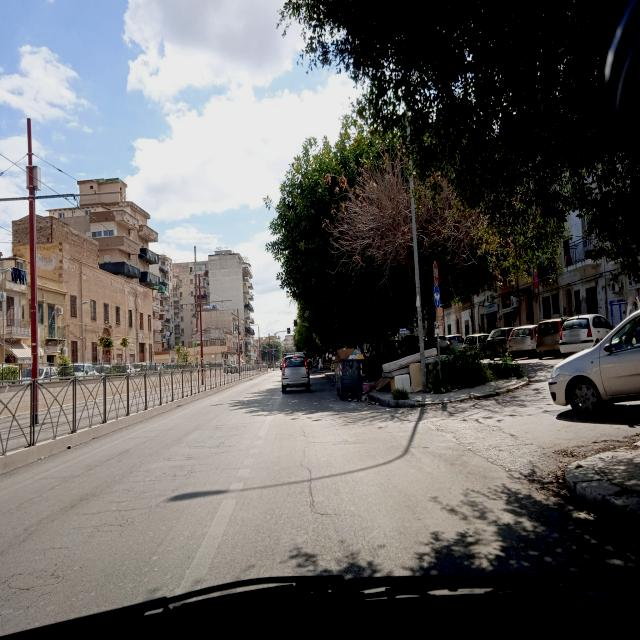car: (548, 304, 640, 418), (558, 314, 616, 359), (281, 354, 311, 394), (535, 317, 563, 358), (506, 323, 537, 358), (484, 326, 514, 359), (390, 332, 428, 356), (462, 332, 490, 358), (436, 333, 466, 355), (58, 363, 96, 378)
